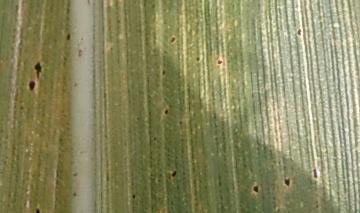tarspot: (31, 60, 44, 77), (25, 78, 39, 92), (282, 175, 293, 189), (168, 168, 180, 180), (310, 165, 319, 181), (294, 26, 305, 38), (251, 183, 261, 196), (168, 34, 179, 45), (158, 66, 169, 77), (62, 31, 74, 41), (215, 57, 225, 68), (32, 204, 44, 213), (129, 191, 139, 201), (193, 54, 203, 64), (175, 118, 185, 127), (163, 106, 169, 118)
